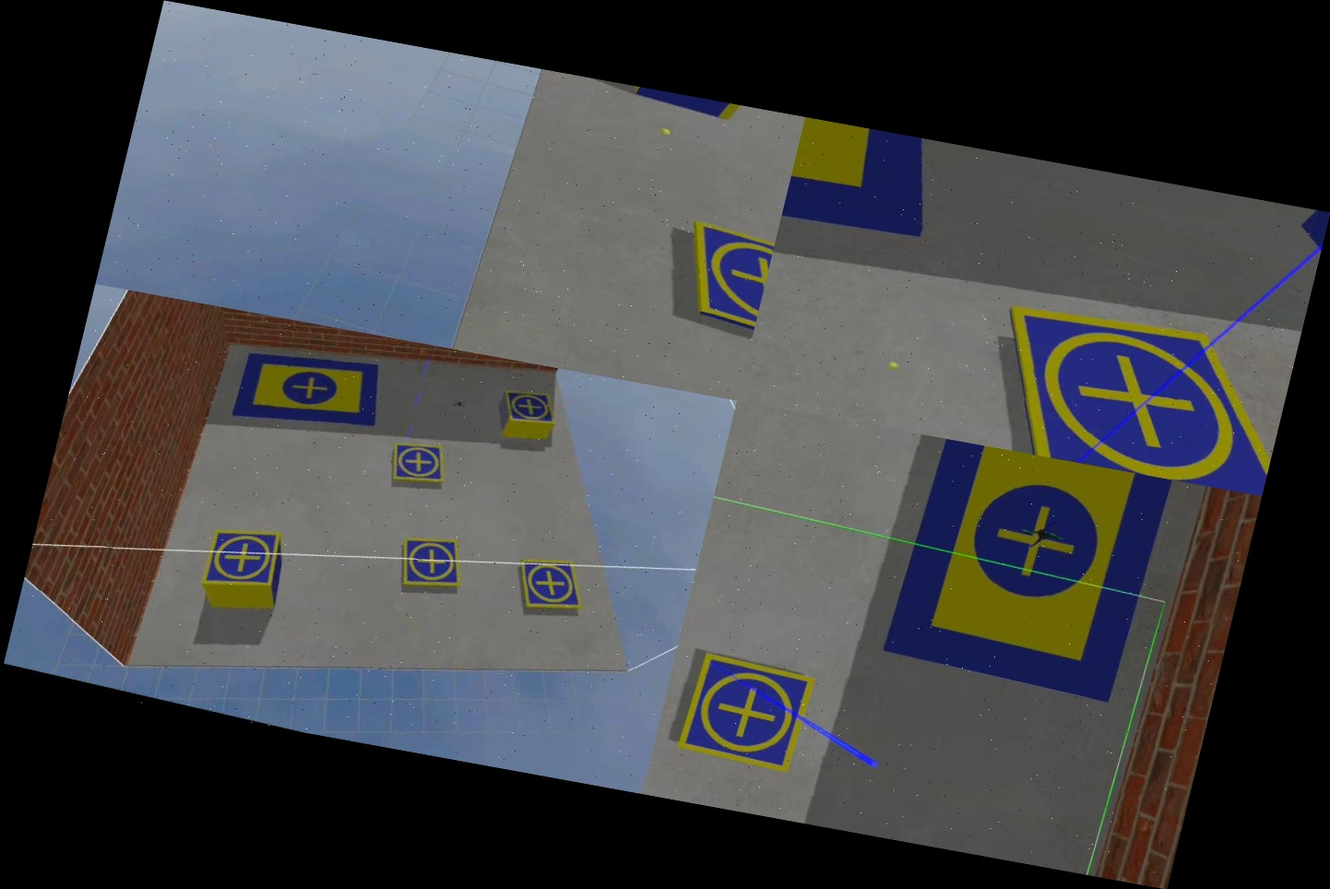large_base: (876, 436, 1178, 709), (231, 338, 395, 448)
small_base: (967, 288, 1299, 496), (673, 651, 815, 775), (664, 217, 778, 339), (197, 519, 291, 601), (507, 551, 595, 623), (390, 529, 474, 599), (383, 436, 454, 492), (495, 385, 564, 433)
